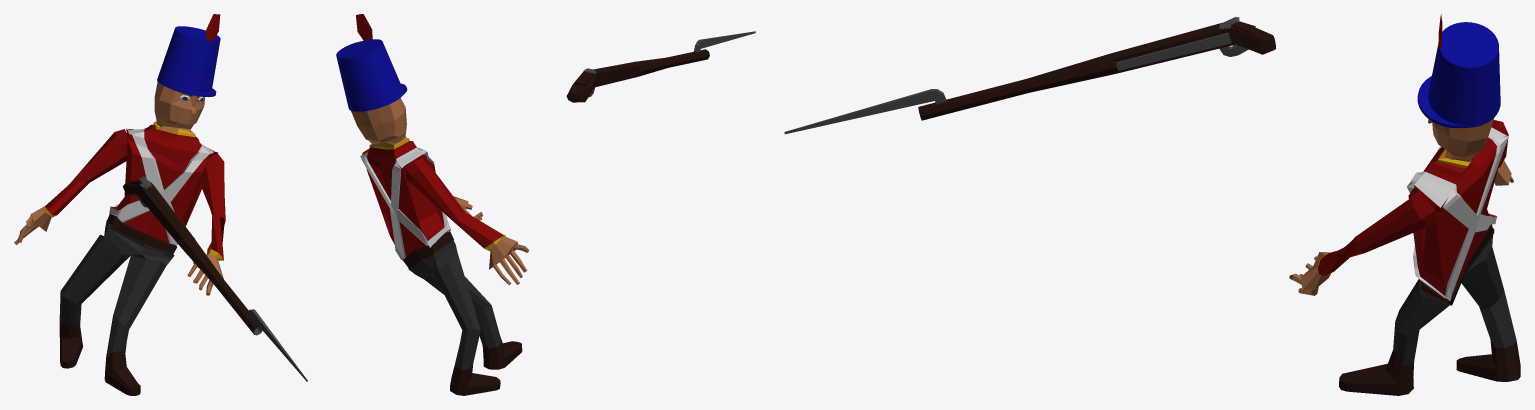
The model's file is Frame2.obj.
The picture shows the model from 3 angles, left to right: view 1: azimuth 30°, elevation 25°; view 2: azimuth 150°, elevation 25°; view 3: azimuth 270°, elevation 25°; orthographic projection. The views are drawn at different scales.
Visible parts, largest first — view 1: {Man}_Circle, {Mesket}_Cube.001; view 2: {Man}_Circle, {Mesket}_Cube.001; view 3: {Man}_Circle, {Mesket}_Cube.001.
Boxes of the visible parts, x1,y1,x2,y2 form: {Man}_Circle: (14,14,225,395); {Mesket}_Cube.001: (122,176,307,381); {Man}_Circle: (336,14,528,395); {Mesket}_Cube.001: (566,31,755,102); {Man}_Circle: (1289,14,1520,395); {Mesket}_Cube.001: (784,17,1275,134).
Size of the model in its own units: 9.21 by 15.06 by 22.27.
